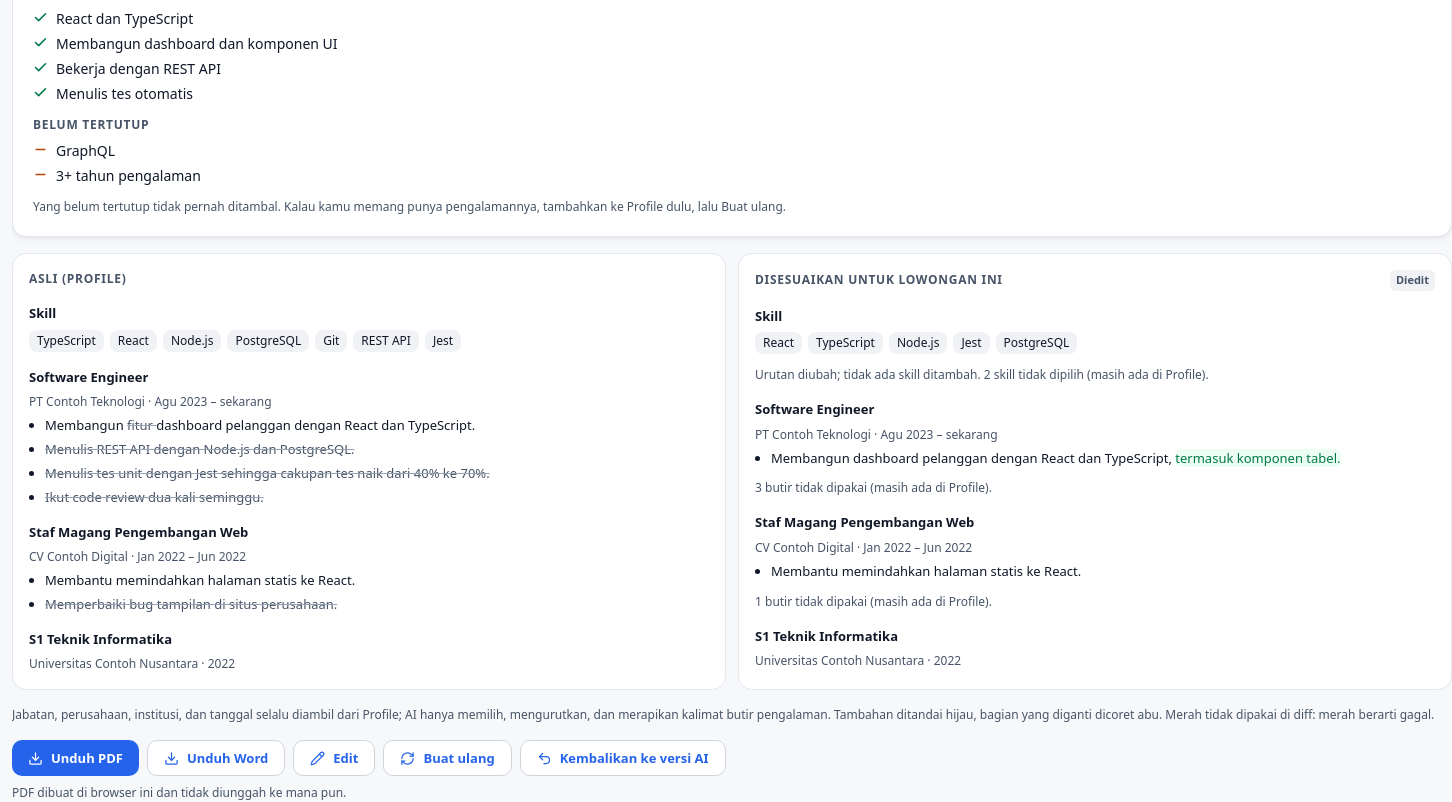
CvTab: Buat ulang (FR-45) › keeps the edits when the person says no
(page scrolled)
Click the button "Buat ulang" at (448,758), box [383, 740, 512, 776]
(page scrolled)
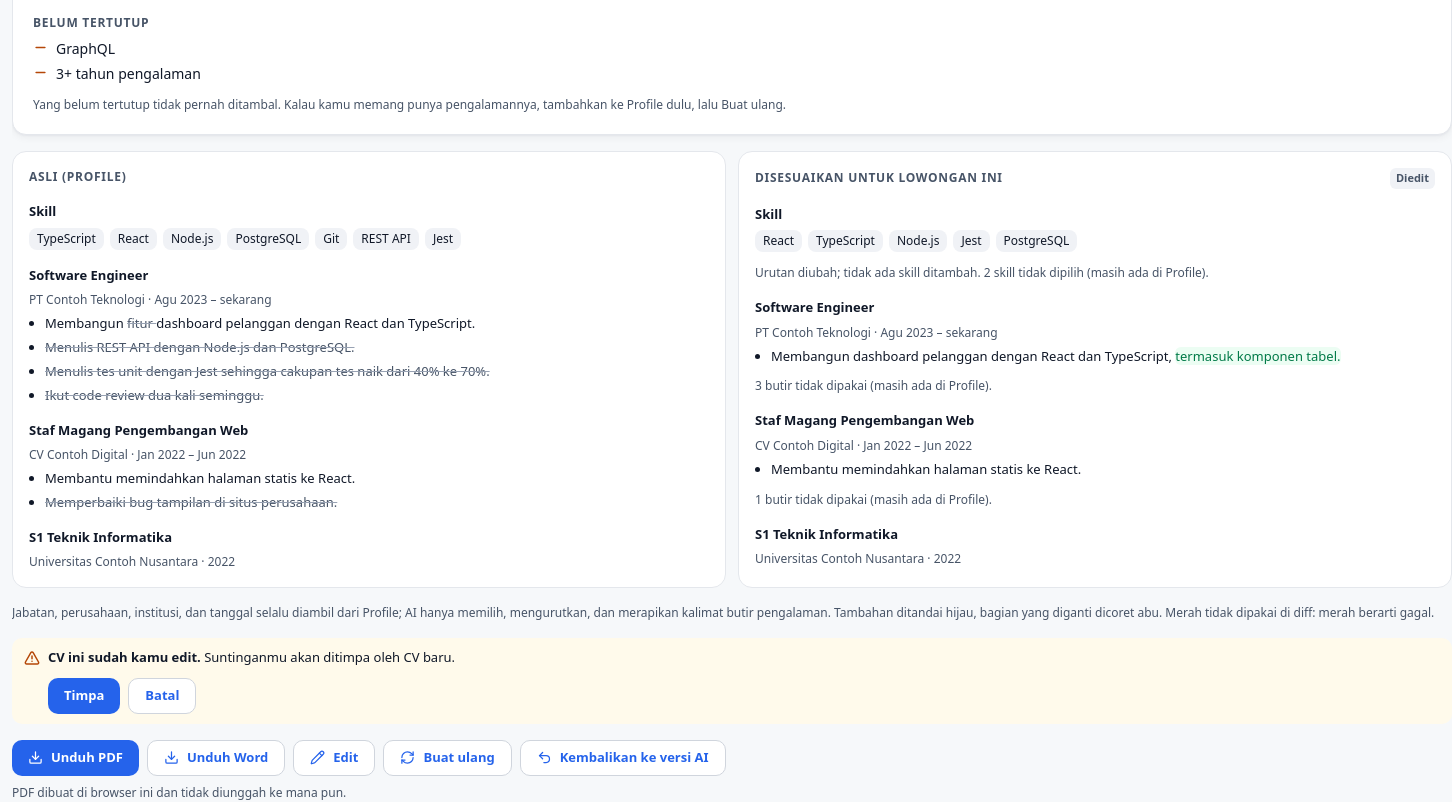
Click the button "Batal" at (162,696), box [128, 678, 196, 714]
(page scrolled)
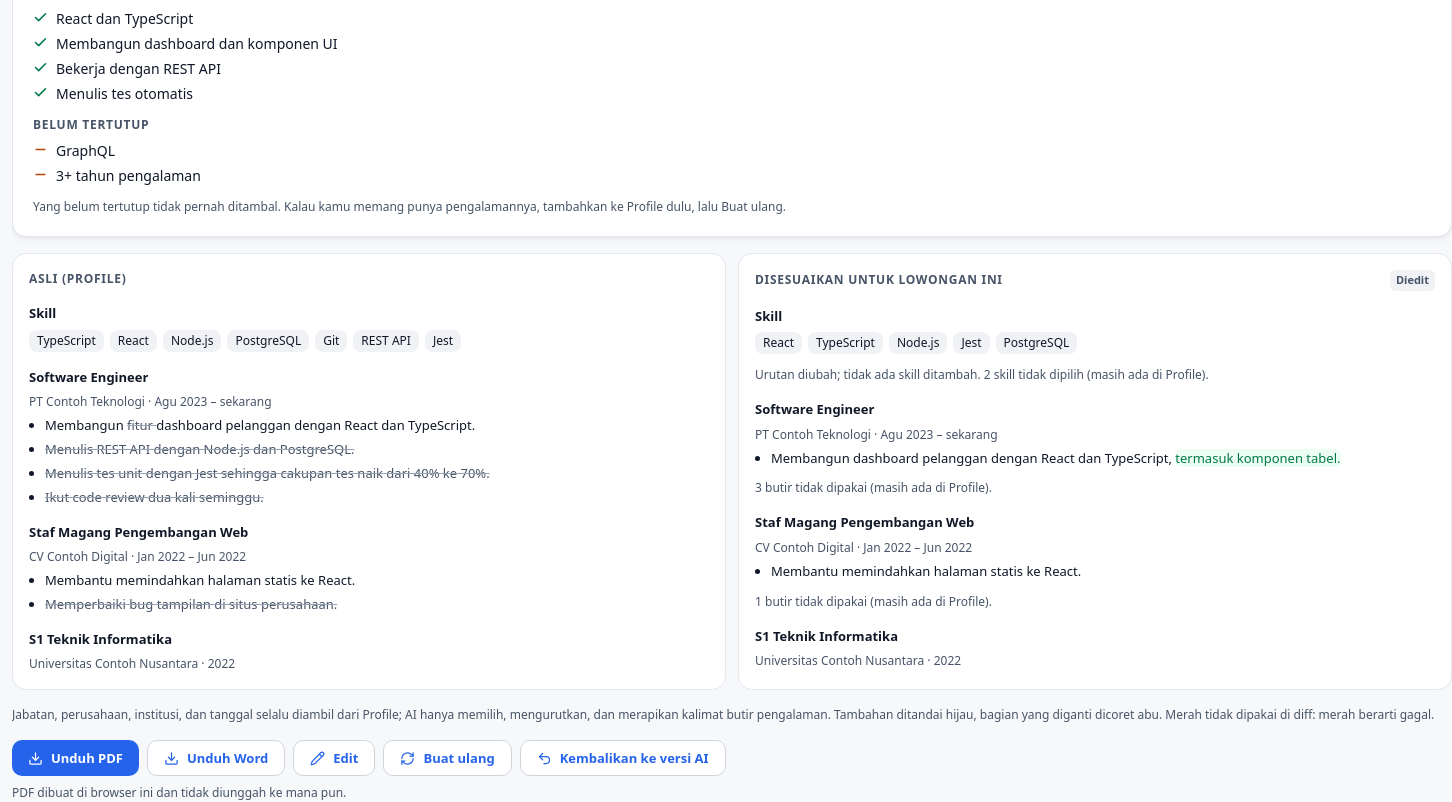
Result: the text "Suntinganmu akan ditimpa" is gone
